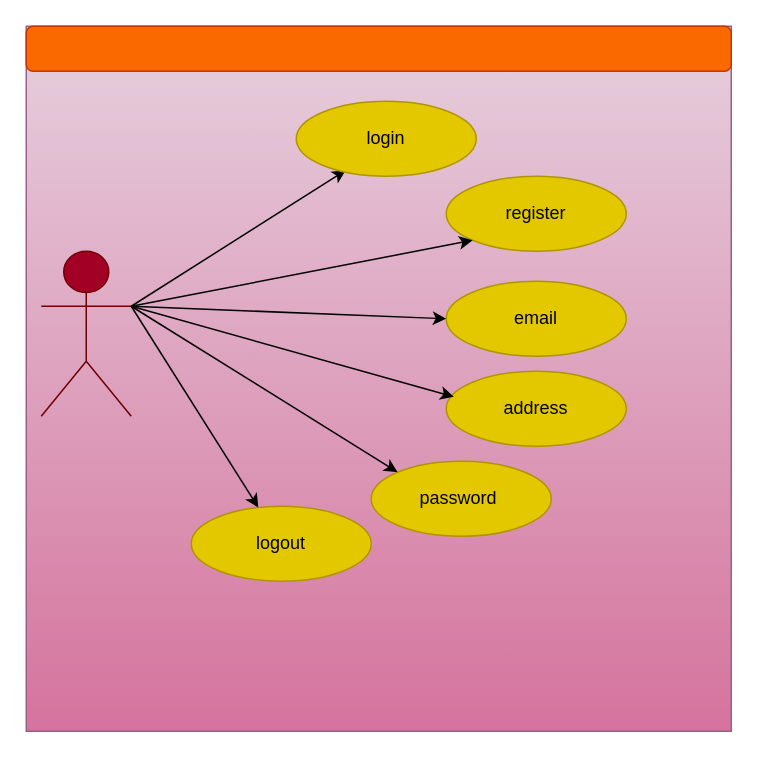
Image size: 758x758. Some labels were removed from this diagram. The shapes that lost their labels are listed below. From the top down, each one's centre as x and y in pixels, then its label:
point (378, 48): customer use case diagram
point (85, 333): customer
